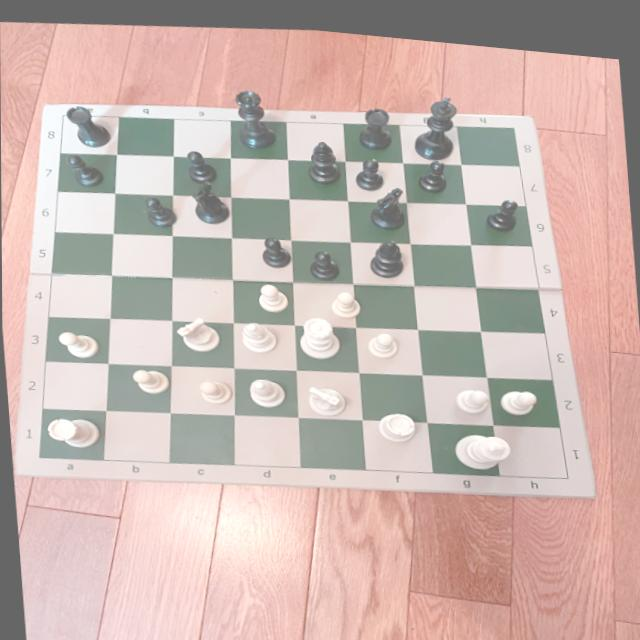Chessboard-Corners: (560, 460, 578, 475), (31, 449, 48, 463), (504, 113, 521, 126), (59, 109, 71, 123)
